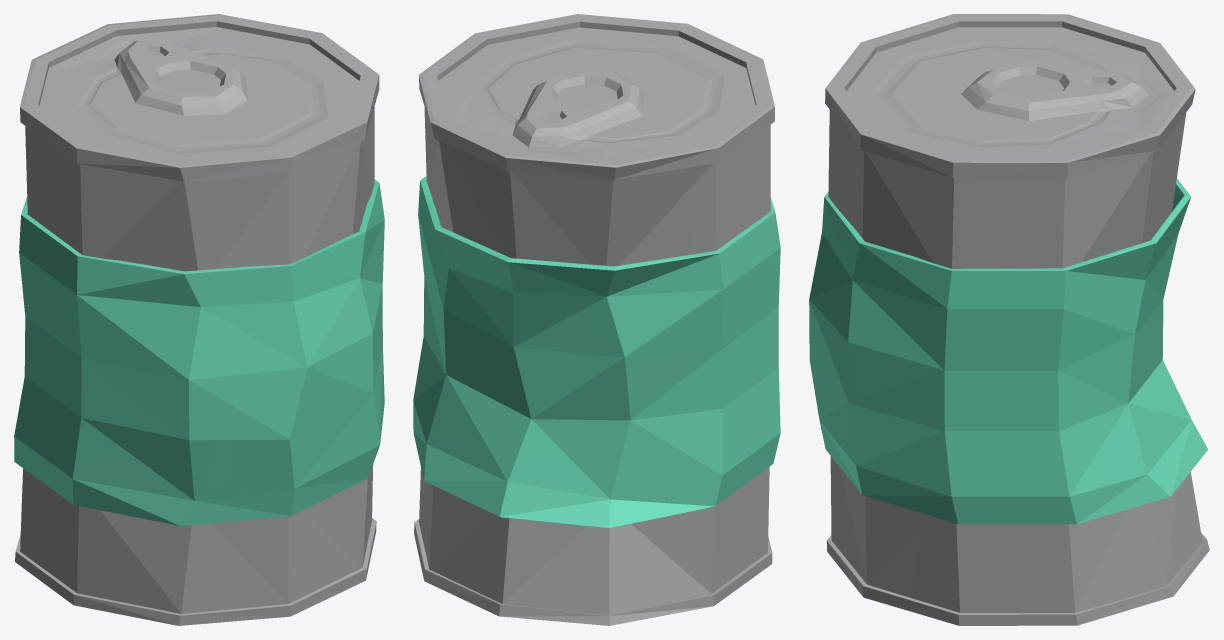
File: can_1_closed.obj
The picture shows the model from 3 angles, left to right: view 1: azimuth 30°, elevation 25°; view 2: azimuth 150°, elevation 25°; view 3: azimuth 270°, elevation 25°; orthographic projection.
Parts seen in each view (by area): view 1: can_1_closed_Mesh; view 2: can_1_closed_Mesh; view 3: can_1_closed_Mesh.
Boxes of the visible parts, <box> form: can_1_closed_Mesh: <box>14,14,384,625</box>; can_1_closed_Mesh: <box>413,14,780,625</box>; can_1_closed_Mesh: <box>809,14,1209,625</box>.
Bounding box in the file's own units: 0.1078 × 0.1537 × 0.1189.
